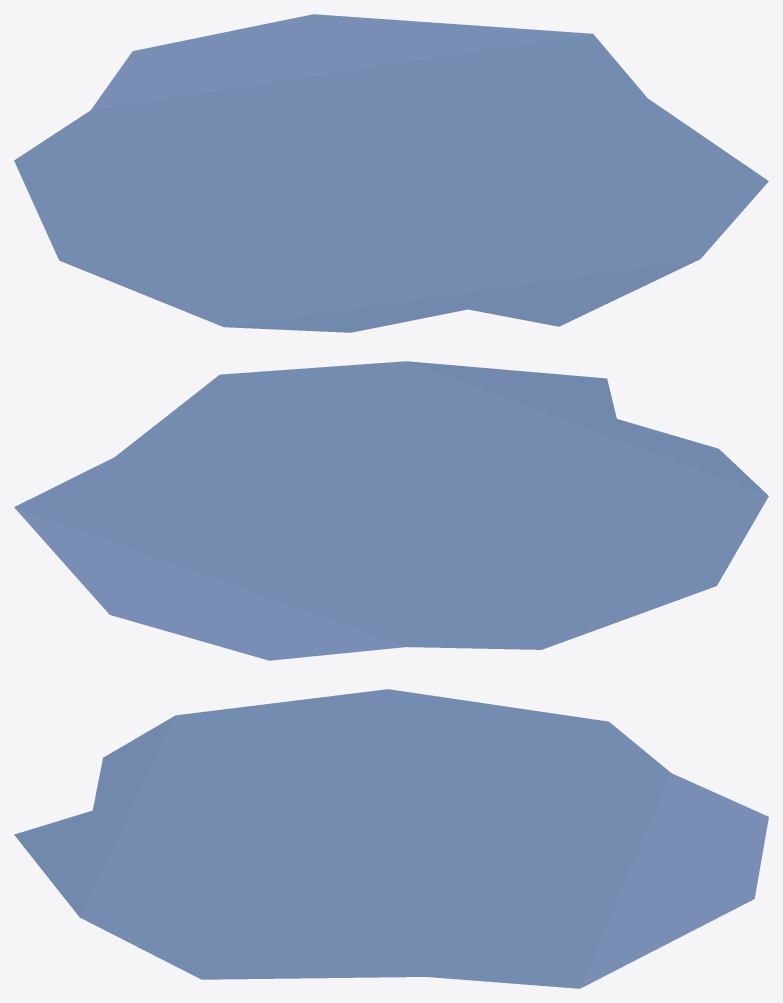
File: pond.glb
3 renders of one model, top to bottom at view 1: azimuth 30°, elevation 25°; view 2: azimuth 150°, elevation 25°; view 3: azimuth 270°, elevation 25°, orthographic. The views are drawn at different scales.
Visible parts, largest first — view 1: Pond.001; view 2: Pond.001; view 3: Pond.001.
Boxes of the visible parts, x1,y1,x2,y2 form: Pond.001: (14, 14, 768, 332); Pond.001: (14, 361, 768, 660); Pond.001: (14, 689, 768, 988).
Bounding box in the file's own units: 2.16 × 9.69e-08 × 2.3.
